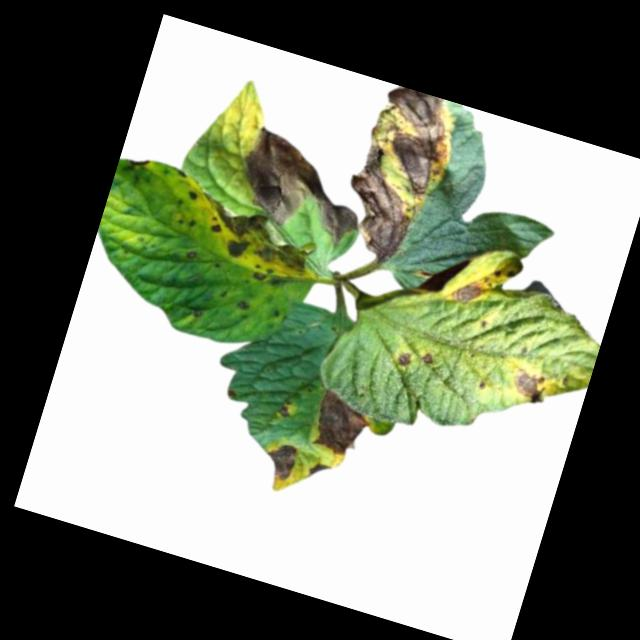Early_blight: (331, 81, 465, 272), (228, 123, 377, 246), (189, 194, 319, 291), (309, 387, 374, 460), (260, 436, 299, 482), (508, 363, 550, 405), (448, 271, 489, 313), (306, 458, 332, 483), (127, 153, 152, 171), (394, 347, 414, 369), (420, 348, 437, 367), (279, 397, 294, 418), (236, 297, 251, 311), (187, 187, 200, 200)
